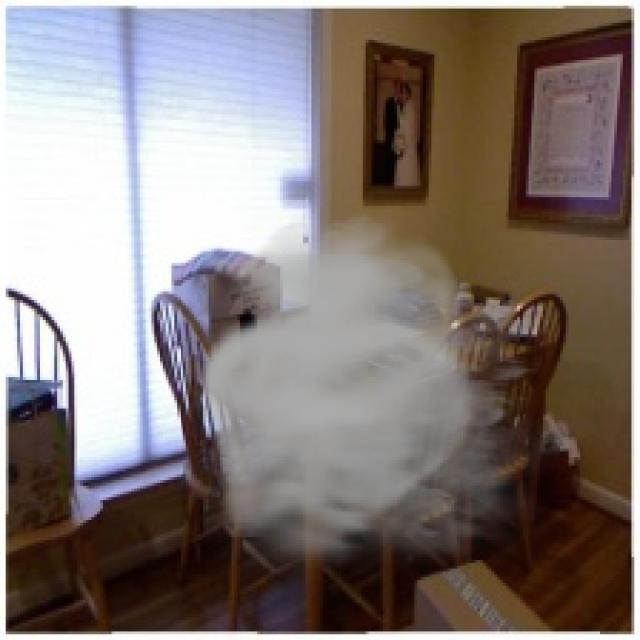Smoke: (195, 214, 574, 586)
